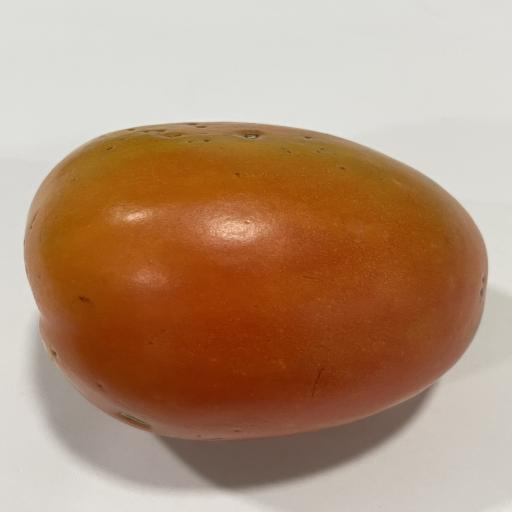unripe: (24, 122, 487, 440)
